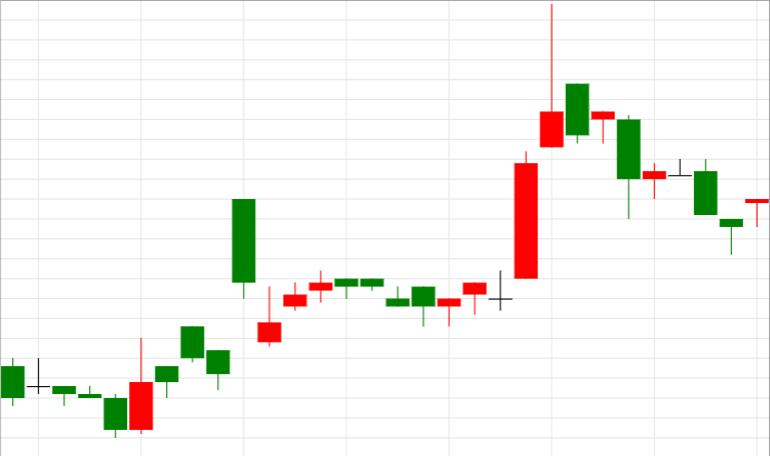shooting_star_fall: (437, 4, 563, 326)
